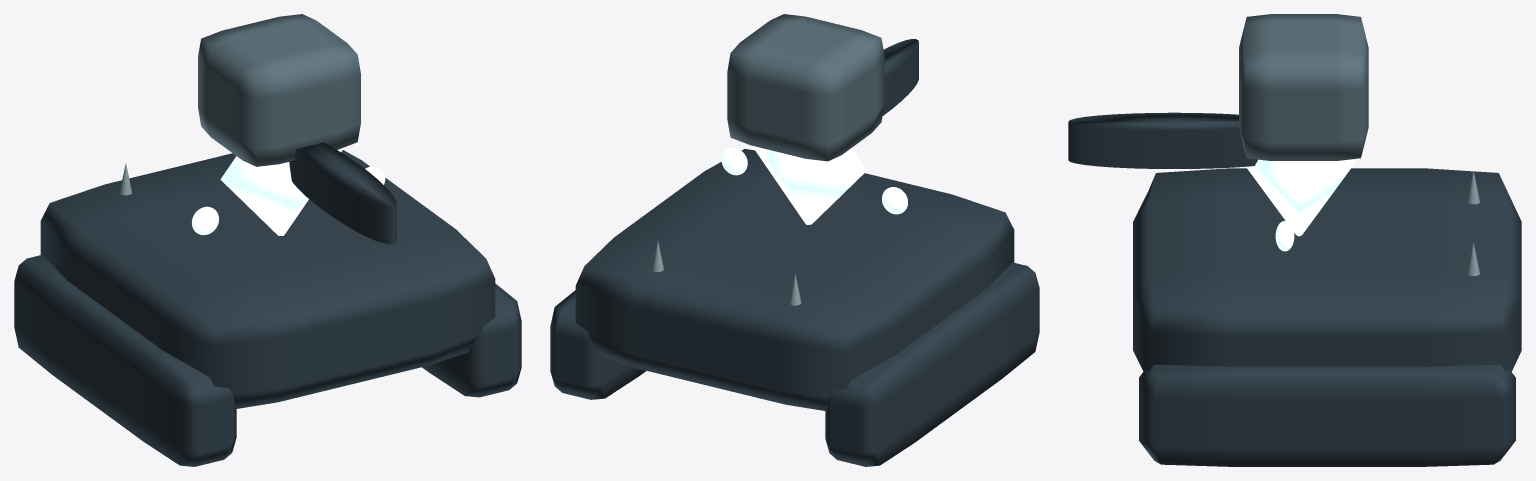
File: aether-tank.glb
The picture shows the model from 3 angles, left to right: view 1: azimuth 30°, elevation 25°; view 2: azimuth 150°, elevation 25°; view 3: azimuth 270°, elevation 25°; orthographic projection. The views are drawn at different scales.
Visible parts, largest first — view 1: lowerHull, track-1, head, gun, track1, core, ExtraPowerBolt-1; view 2: lowerHull, track-1, head, track1, core, gun, ExtraPowerBolt1, ExtraPowerBolt-1; view 3: lowerHull, track1, head, gun, core, ExtraPowerBolt1.
Boxes of the visible parts, <box> form: lowerHull: <box>40,150,495,408</box>; track-1: <box>14,255,236,466</box>; head: <box>198,14,360,166</box>; gun: <box>289,142,396,244</box>; track1: <box>422,283,521,397</box>; core: <box>220,148,342,235</box>; ExtraPowerBolt-1: <box>191,206,218,235</box>; lowerHull: <box>575,149,1014,410</box>; track-1: <box>825,262,1039,466</box>; head: <box>727,14,884,161</box>; track1: <box>550,290,646,399</box>; core: <box>752,145,867,224</box>; gun: <box>882,39,918,115</box>; ExtraPowerBolt1: <box>721,148,747,175</box>; ExtraPowerBolt-1: <box>882,187,907,214</box>; lowerHull: <box>1133,168,1521,371</box>; track1: <box>1139,364,1515,466</box>; head: <box>1239,14,1368,160</box>; gun: <box>1068,112,1257,168</box>; core: <box>1246,159,1355,236</box>; ExtraPowerBolt1: <box>1275,221,1294,251</box>.
Bounding box in the file's own units: 1.74 × 1.64 × 1.93.
